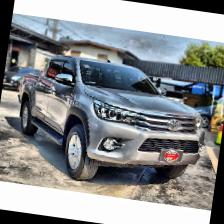NON-EV: (7, 47, 215, 200)
